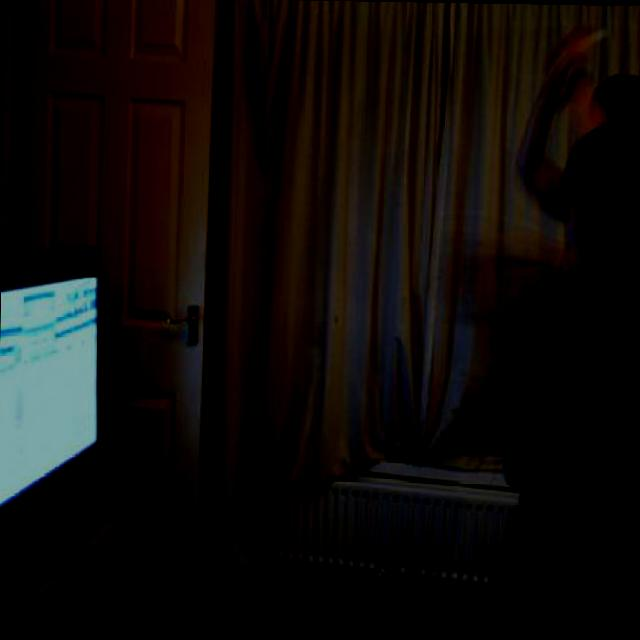Person: (493, 110, 640, 634), (511, 29, 640, 300)
